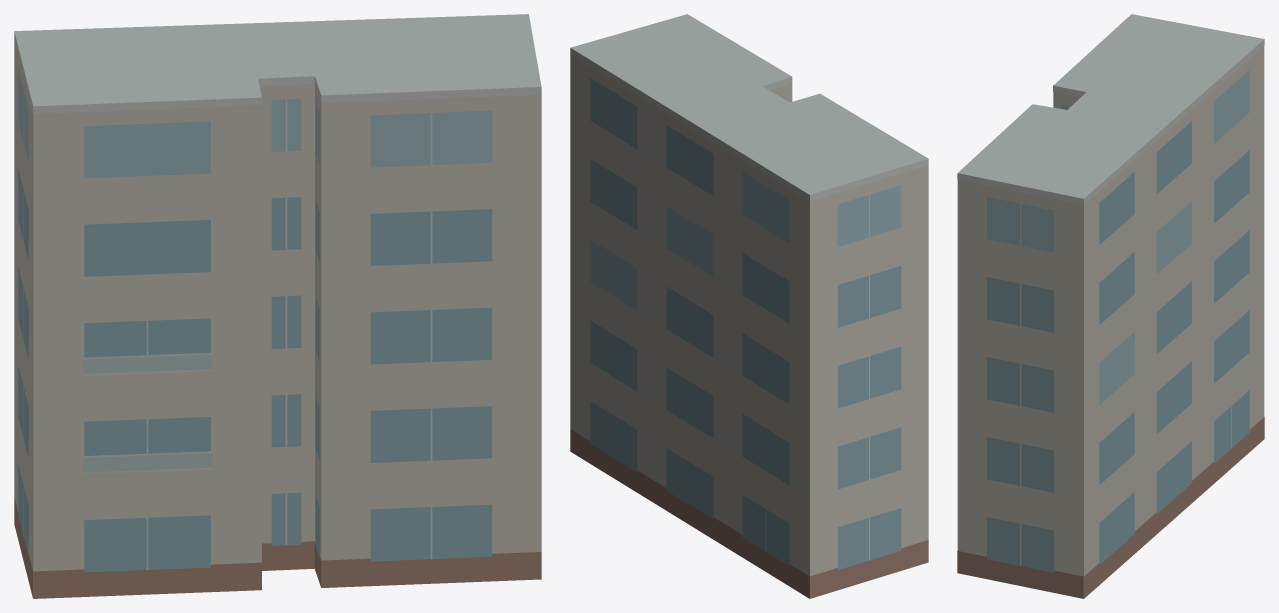
File: survey-upis-32753295.glb
3 renders of one model, left to right at view 1: azimuth 30°, elevation 25°; view 2: azimuth 150°, elevation 25°; view 3: azimuth 270°, elevation 25°, orthographic. The views are drawn at different scales.
Parts seen in each view (by area): view 1: survey-upis-32753295.tmp; view 2: survey-upis-32753295.tmp; view 3: survey-upis-32753295.tmp.
Boxes of the visible parts, bbox=[...] form: survey-upis-32753295.tmp: bbox=[14, 14, 541, 598]; survey-upis-32753295.tmp: bbox=[570, 14, 928, 598]; survey-upis-32753295.tmp: bbox=[957, 14, 1264, 598].
Size of the model in its own units: 15.46 by 15.59 by 10.85.
